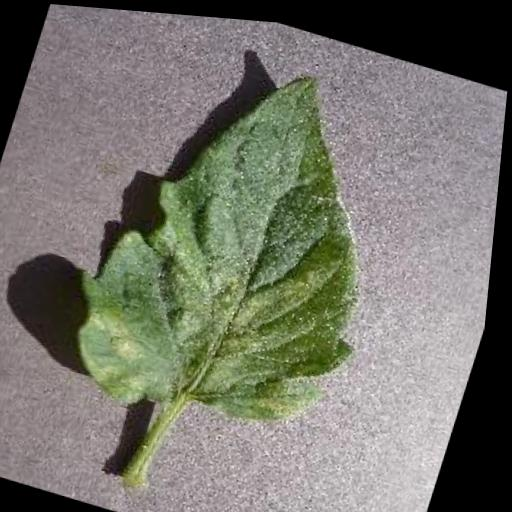Spider Mites: (53, 19, 434, 455)
